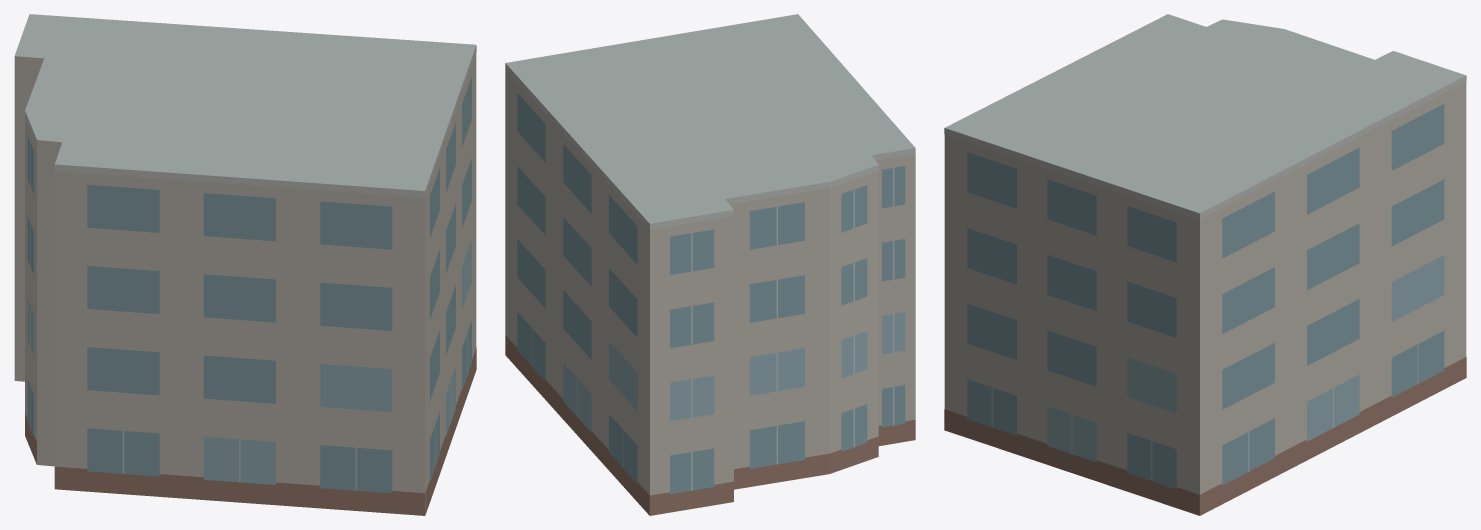
Rendered from survey-upis-32683932.glb.
The picture shows the model from 3 angles, left to right: view 1: azimuth 30°, elevation 25°; view 2: azimuth 150°, elevation 25°; view 3: azimuth 270°, elevation 25°; orthographic projection. The views are drawn at different scales.
Parts seen in each view (by area): view 1: survey-upis-32683932.tmp; view 2: survey-upis-32683932.tmp; view 3: survey-upis-32683932.tmp.
Boxes of the visible parts, left/top/right/bottom form: survey-upis-32683932.tmp: left=14, top=14, right=476, bottom=515; survey-upis-32683932.tmp: left=505, top=14, right=915, bottom=515; survey-upis-32683932.tmp: left=944, top=14, right=1466, bottom=515.
Bounding box in the file's own units: 16.49 × 11.65 × 18.23.
